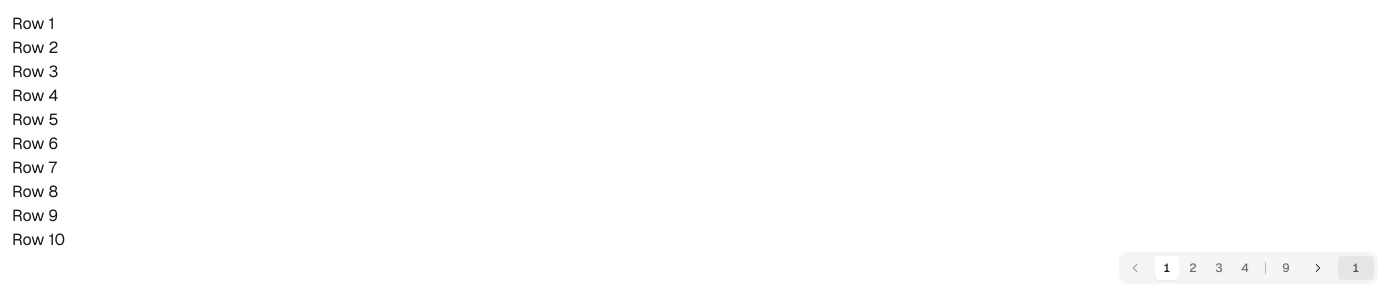
Test case: the go-to-page box › takes digits only
This screenshot has width=1378, height=299.
Replace the text in the field named "Go to page of rows" with "1a2" at (1356, 268), box [1338,256,1374,280]
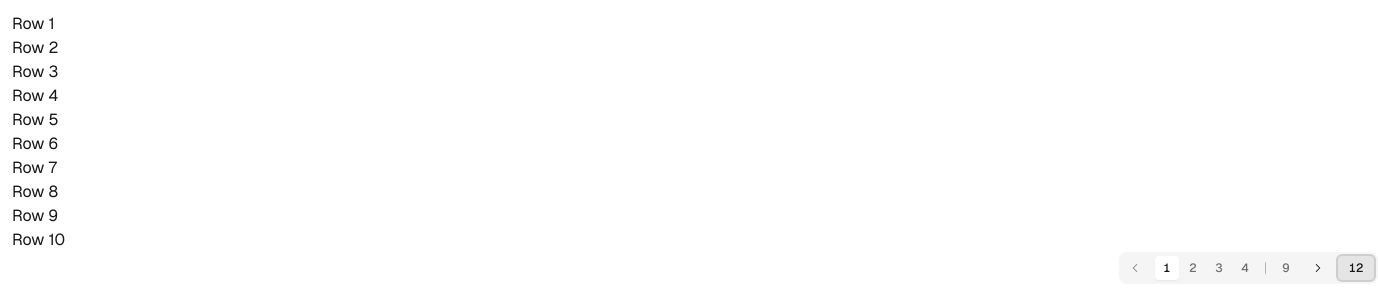
Result: the field named "Go to page of rows" holds "12" at [1338,256,1374,280]
